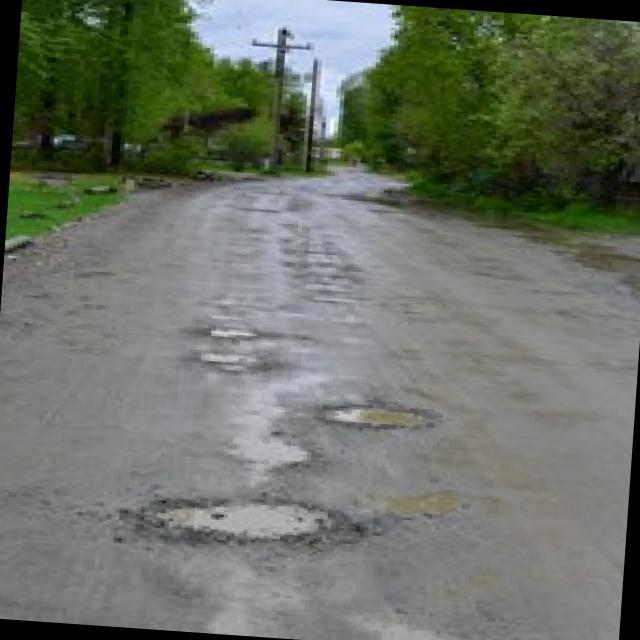Pothole: (147, 492, 349, 546), (313, 401, 443, 433)
